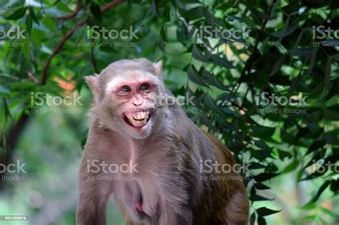monkey: (70, 30, 276, 222)
